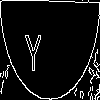Y: (25, 25, 42, 72)
